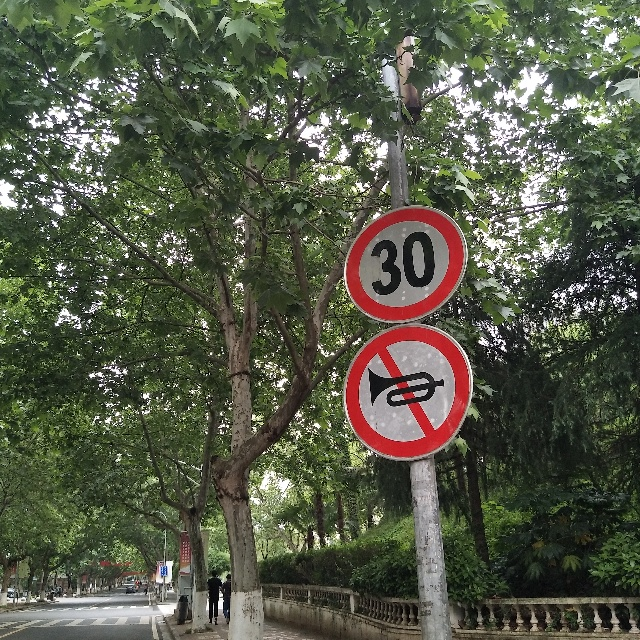nohonk: (346, 336, 466, 453)
